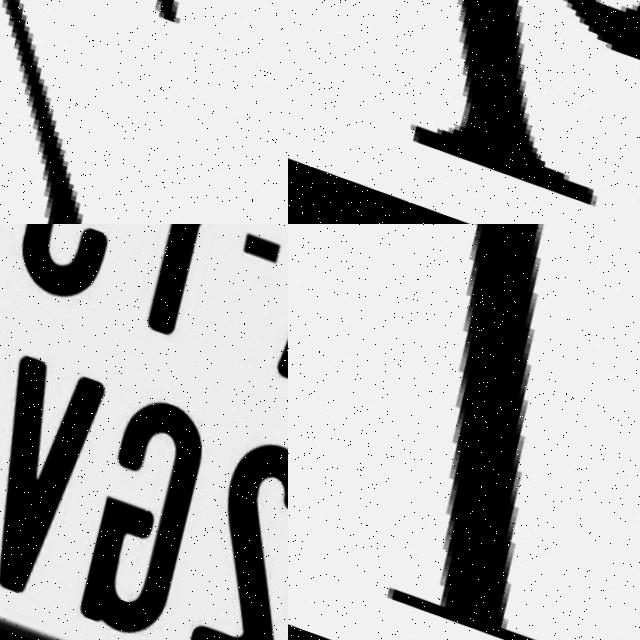1: (313, 224, 640, 640)
2: (157, 429, 288, 640)
7: (0, 0, 255, 224)
G: (46, 388, 225, 640)
Q: (288, 0, 640, 224)
S: (0, 224, 165, 311)
V: (0, 351, 120, 616)
Y: (92, 224, 267, 354)
